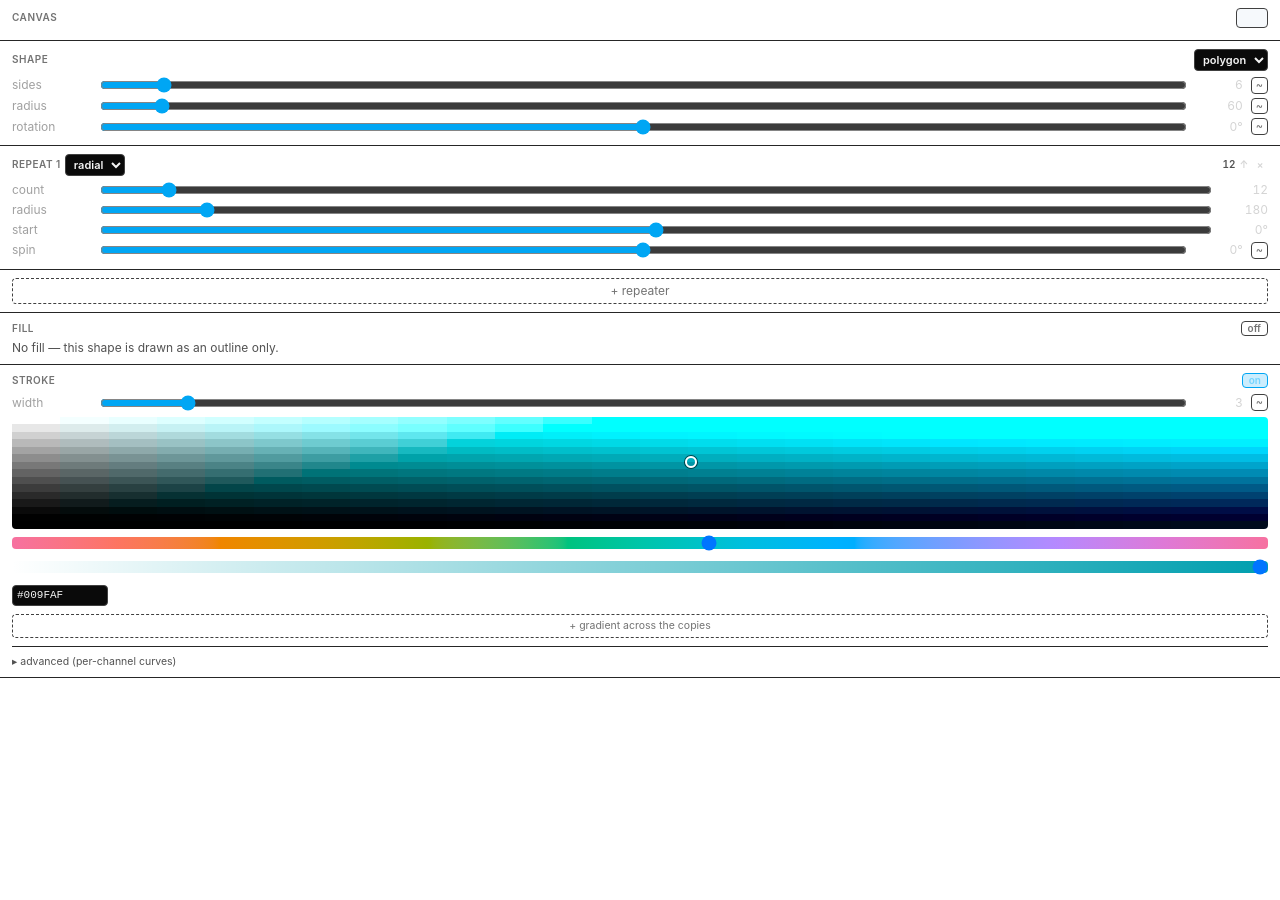
Test: Inspector › turns stroke off, clearing it from the document
The width and height of the screenshot is (1280, 900).
Click the button with aria-label "Toggle stroke" at coordinates (1255, 381), box [1242,373,1268,388]
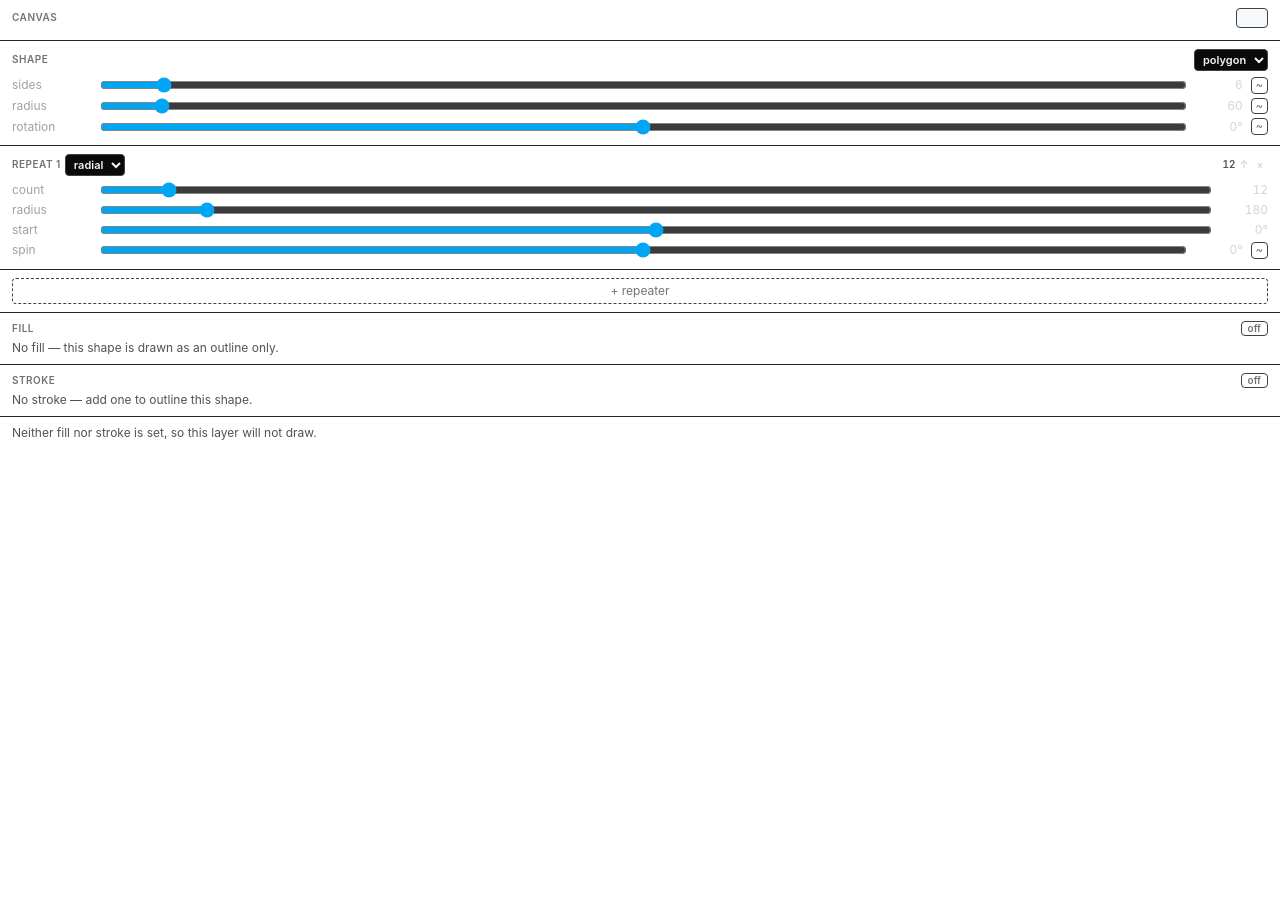
Expected: the element with test id "card-stroke" shows "No stroke", [12,392,252,407]
